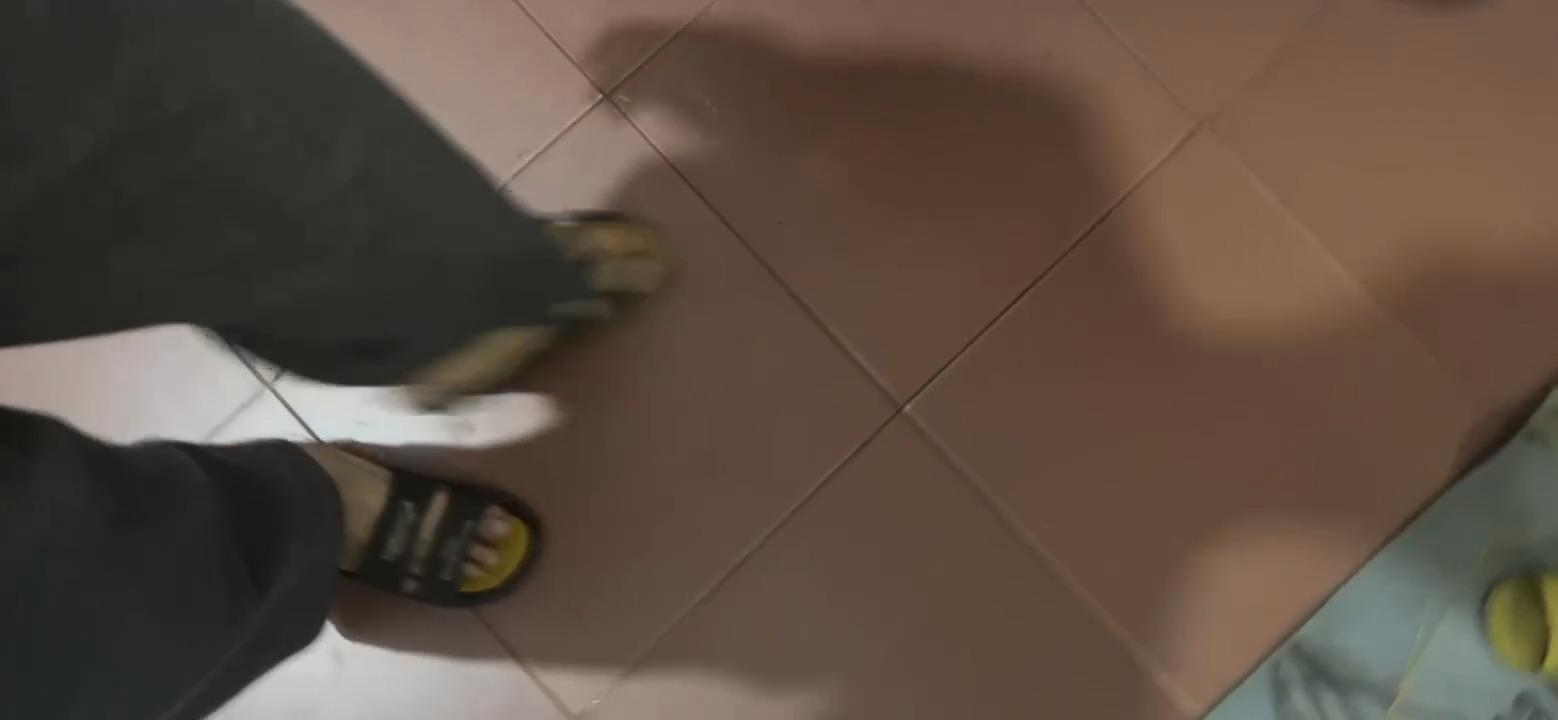no-boot: (269, 419, 547, 615)
